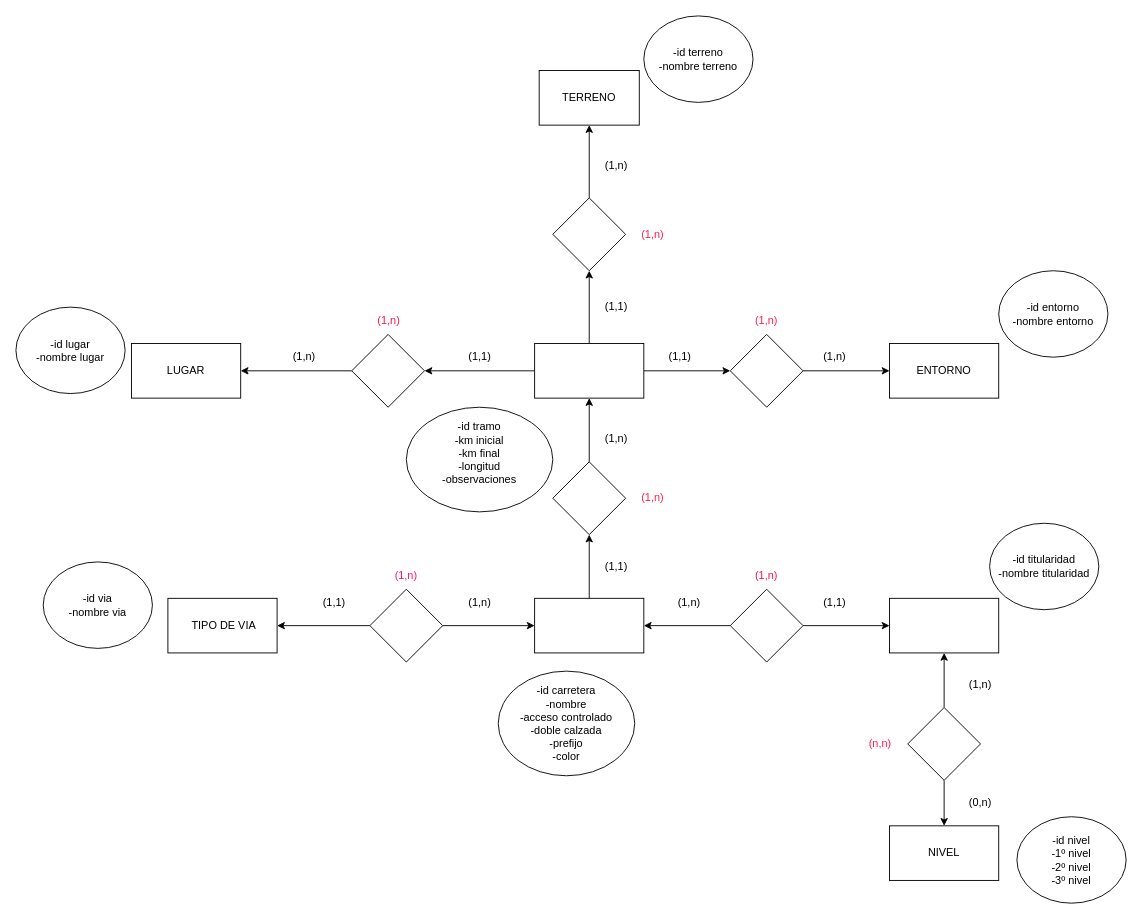
The diagram is 1142 pixels wide and 919 high, and some of its shapes have lost their labels. Here are the shapes that lost their labels. From the top down, the box of each, then its label:
(534, 343, 644, 398): TRAMO
(534, 597, 644, 653): CARRETERAS
(889, 597, 999, 653): TITULARIDAD
